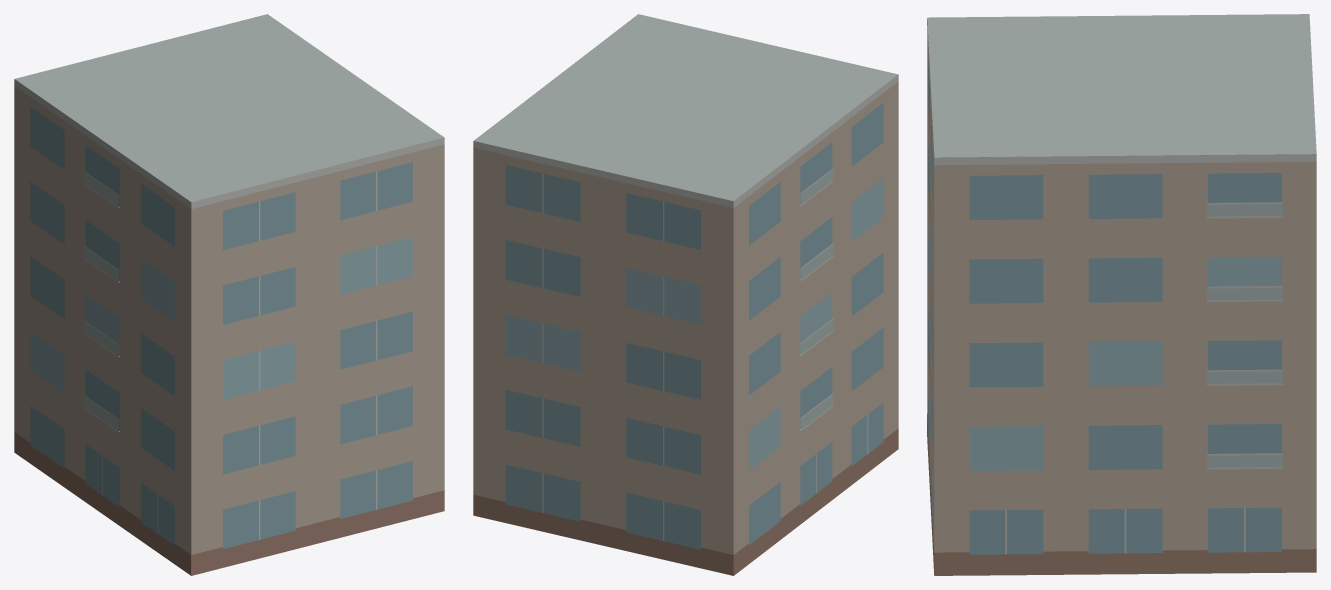
The model's file is survey-upis-32731836.glb.
The picture shows the model from 3 angles, left to right: view 1: azimuth 30°, elevation 25°; view 2: azimuth 150°, elevation 25°; view 3: azimuth 270°, elevation 25°; orthographic projection. The views are drawn at different scales.
Parts seen in each view (by area): view 1: survey-upis-32731836.tmp; view 2: survey-upis-32731836.tmp; view 3: survey-upis-32731836.tmp.
Part boxes in pixels (x1,y1,x2,y2): survey-upis-32731836.tmp: (14,14,444,575); survey-upis-32731836.tmp: (473,14,898,575); survey-upis-32731836.tmp: (927,14,1316,575).
Bounding box in the file's own units: 9.79 × 13.3 × 11.23.
